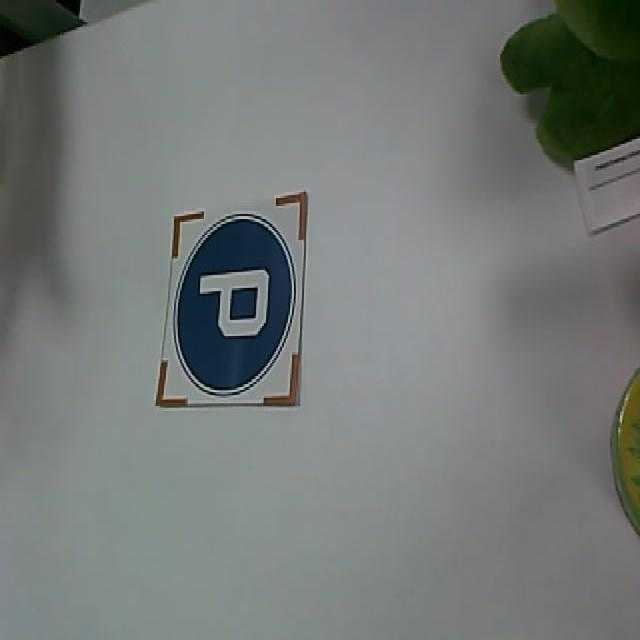parking: (175, 214, 296, 388)
